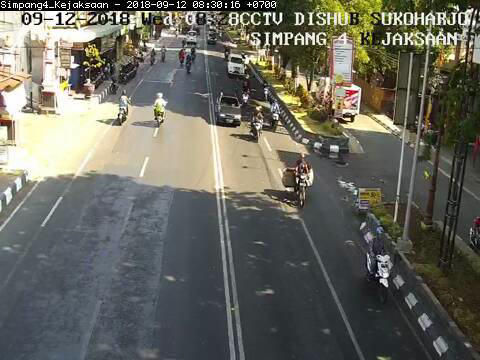motor: (366, 223, 396, 302), (283, 151, 317, 208), (248, 104, 265, 143), (267, 98, 283, 130)
